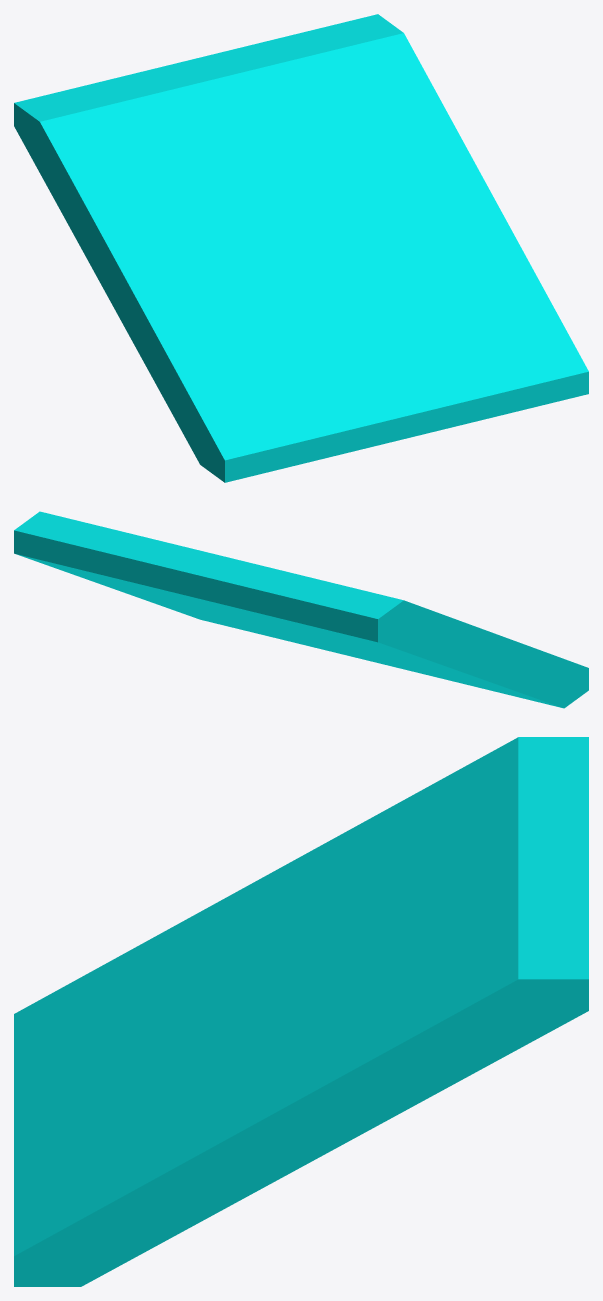
Rendered from SM_Bld_Stairs_01_Collision.fbx.
The picture shows the model from 3 angles, top to bottom: view 1: azimuth 30°, elevation 25°; view 2: azimuth 150°, elevation 25°; view 3: azimuth 270°, elevation 25°; orthographic projection. The views are drawn at different scales.
Visible parts, largest first — view 1: SM_Bld_Stairs_01_Collision; view 2: SM_Bld_Stairs_01_Collision; view 3: SM_Bld_Stairs_01_Collision.
Part boxes in pixels (<box>): SM_Bld_Stairs_01_Collision: <box>14,14,588,482</box>; SM_Bld_Stairs_01_Collision: <box>14,511,588,708</box>; SM_Bld_Stairs_01_Collision: <box>14,737,588,1286</box>.
Size of the model in its own units: 249 by 147 by 250.
